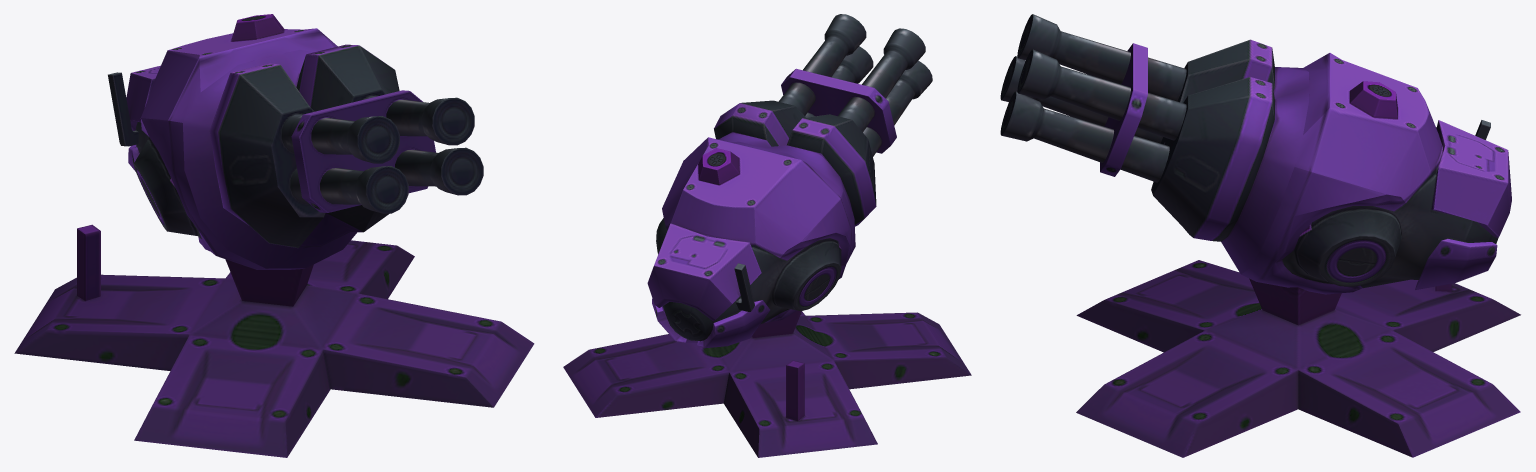
The model's file is Cannon_09.FBX.
3 views of the same model, side by side, from view 1: azimuth 30°, elevation 25°; view 2: azimuth 150°, elevation 25°; view 3: azimuth 270°, elevation 25° (orthographic). The views are drawn at different scales.
Visible parts, largest first — view 1: Base, Turret; view 2: Turret, Base; view 3: Turret, Base.
Boxes of the visible parts, bbox=[...] form: Base: bbox=[14, 224, 534, 457]; Turret: bbox=[108, 14, 483, 269]; Turret: bbox=[647, 14, 932, 348]; Base: bbox=[563, 310, 971, 457]; Turret: bbox=[1000, 14, 1511, 294]; Base: bbox=[1076, 260, 1520, 457].
Size of the model in its own units: 151 by 123 by 176.
